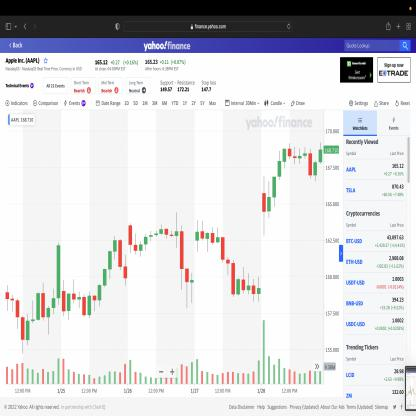Bullish: 3 White Soldiers: (266, 148, 282, 222), (272, 145, 288, 208), (97, 248, 112, 309), (102, 234, 118, 290)
Bullish: Tweezer Bottom: (20, 311, 30, 357)
